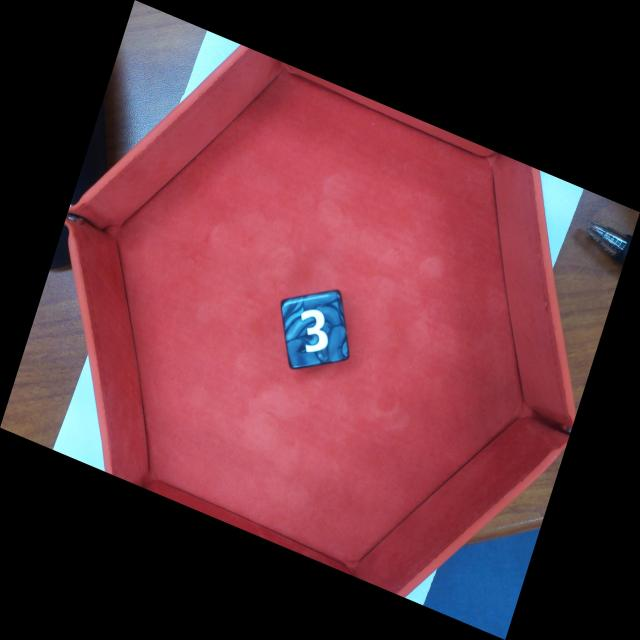dice: (283, 291, 348, 371)
